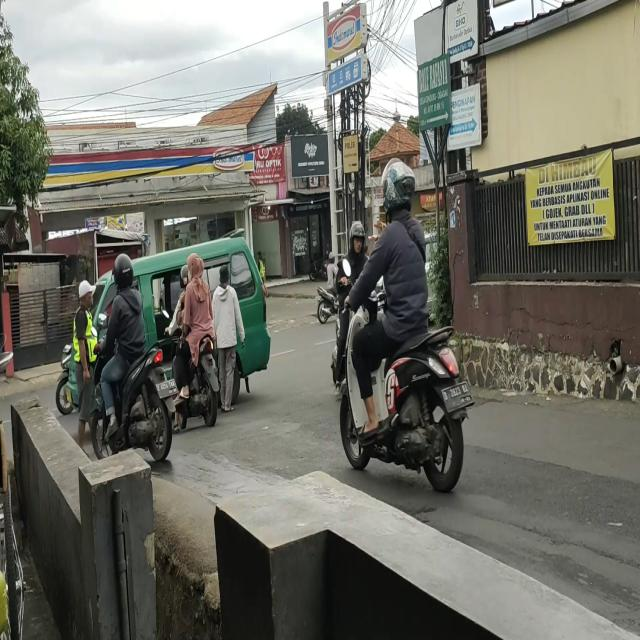helmet: (382, 164, 413, 210), (347, 220, 366, 254), (115, 254, 133, 289), (179, 264, 188, 284)
no-helmet: (187, 254, 204, 281)
